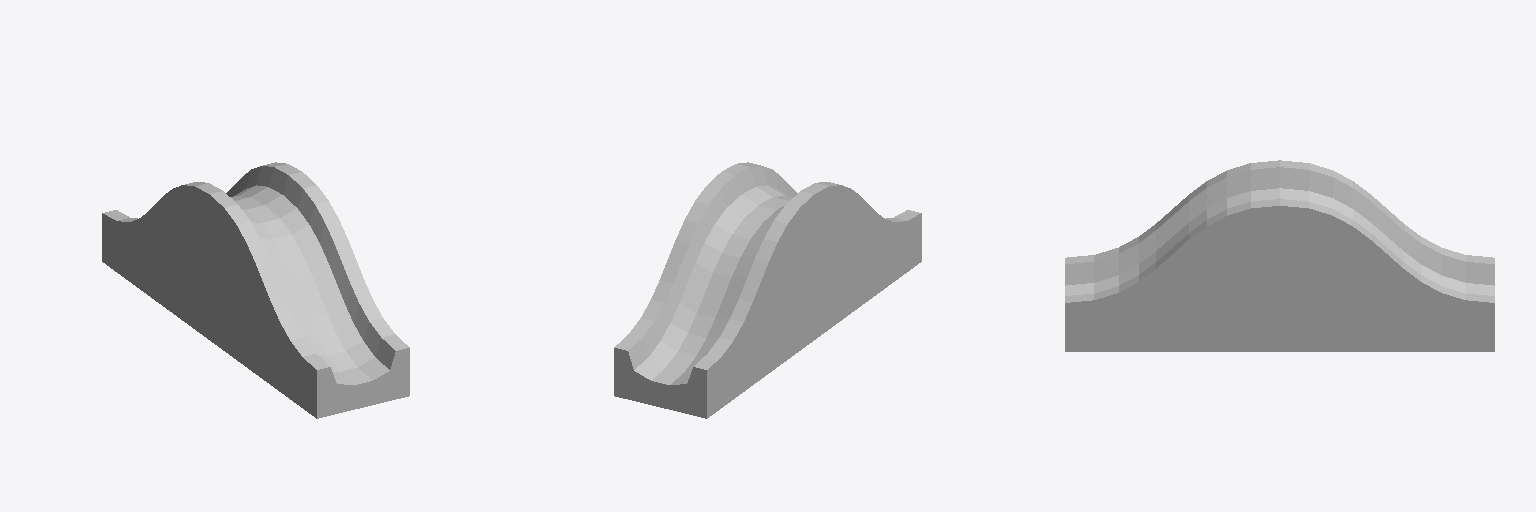
Rendered from bump-solid-c.obj.
The picture shows the model from 3 angles: view 1: azimuth 30°, elevation 25°; view 2: azimuth 150°, elevation 25°; view 3: azimuth 270°, elevation 25°; orthographic projection.
Parts seen in each view (by area): view 1: bump-solid-c; view 2: bump-solid-c; view 3: bump-solid-c.
Part boxes in pixels (x1,y1,x2,y2): bump-solid-c: (102,162,409,418); bump-solid-c: (614,162,921,418); bump-solid-c: (1065,160,1494,351).
Size of the model in its own units: 1 by 1.5 by 4.